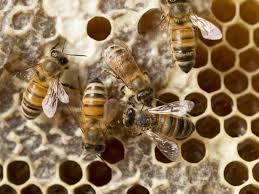worker-bee: (122, 100, 194, 160), (162, 0, 222, 72), (21, 43, 69, 119), (103, 40, 153, 105), (78, 77, 119, 155)
